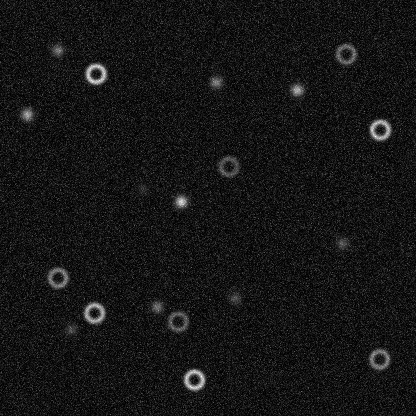Ring: (165, 309, 189, 333), (45, 265, 69, 289), (367, 117, 391, 141), (216, 154, 240, 178), (182, 367, 206, 391), (82, 300, 106, 324), (333, 42, 357, 66), (83, 61, 107, 85), (367, 347, 391, 371)
Spot: (135, 180, 151, 196), (148, 298, 164, 314), (288, 81, 304, 97), (334, 235, 350, 251), (18, 106, 34, 122), (62, 321, 78, 337), (49, 42, 65, 58), (207, 74, 223, 90), (172, 193, 188, 209), (226, 290, 242, 306)
